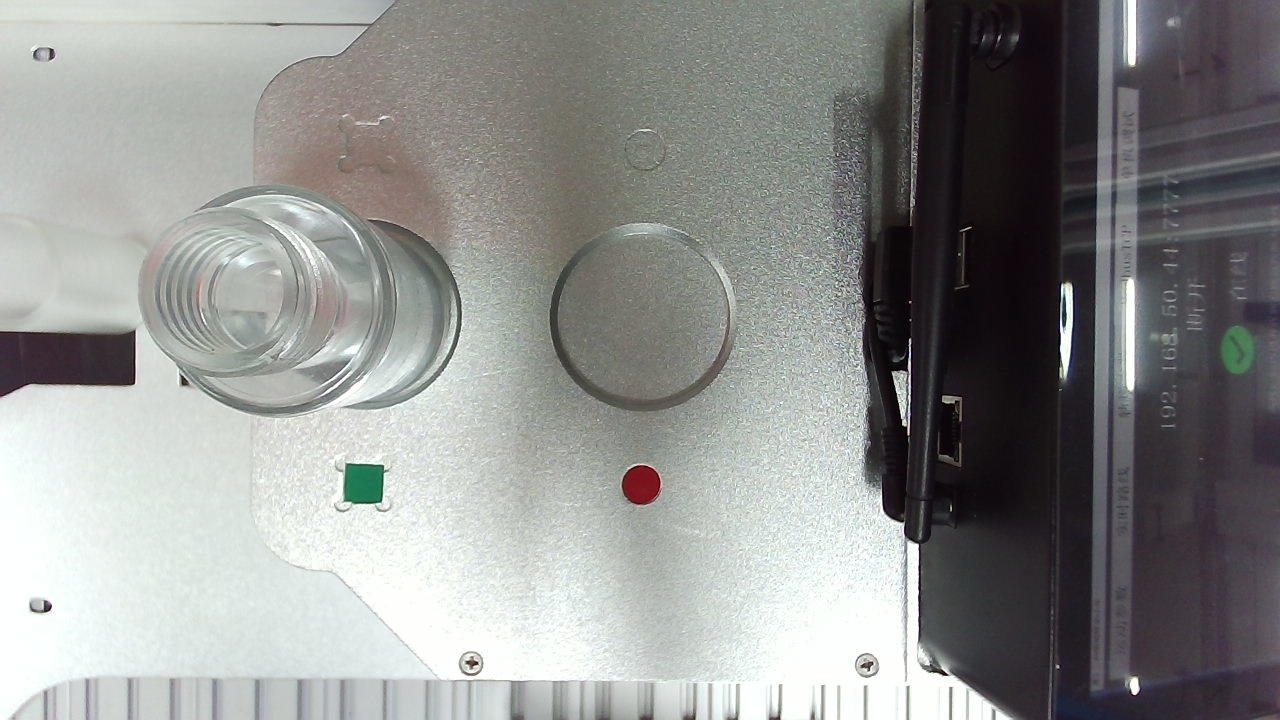XLabel: (700, 134, 768, 203)
YLabel: (1116, 178, 1180, 248)
transparentempty: (506, 228, 930, 642)
